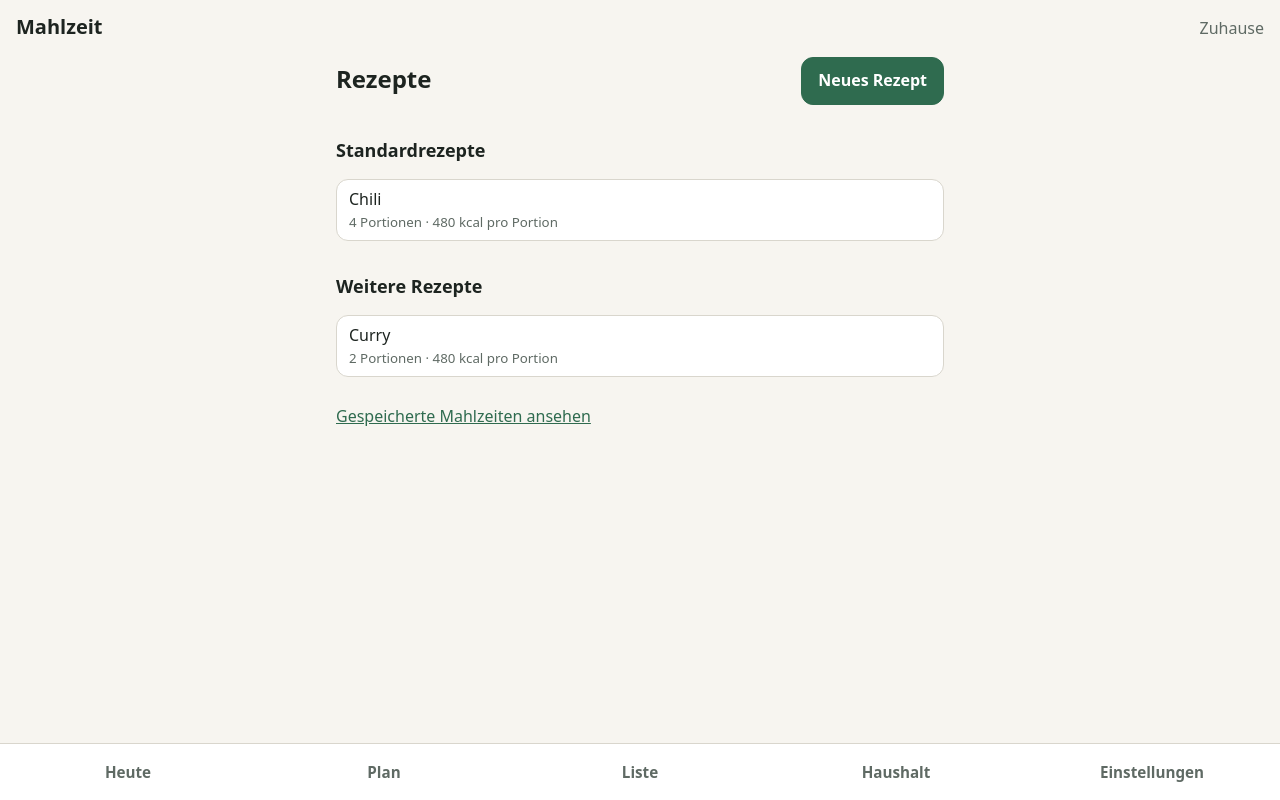
it: recipes › puts the ingredients for some portions on the list
The width and height of the screenshot is (1280, 800).
Step 1. Click the button "Chili 4 Portionen · 480 kcal pro Portion" → (365, 199), box [336,179,944,241]
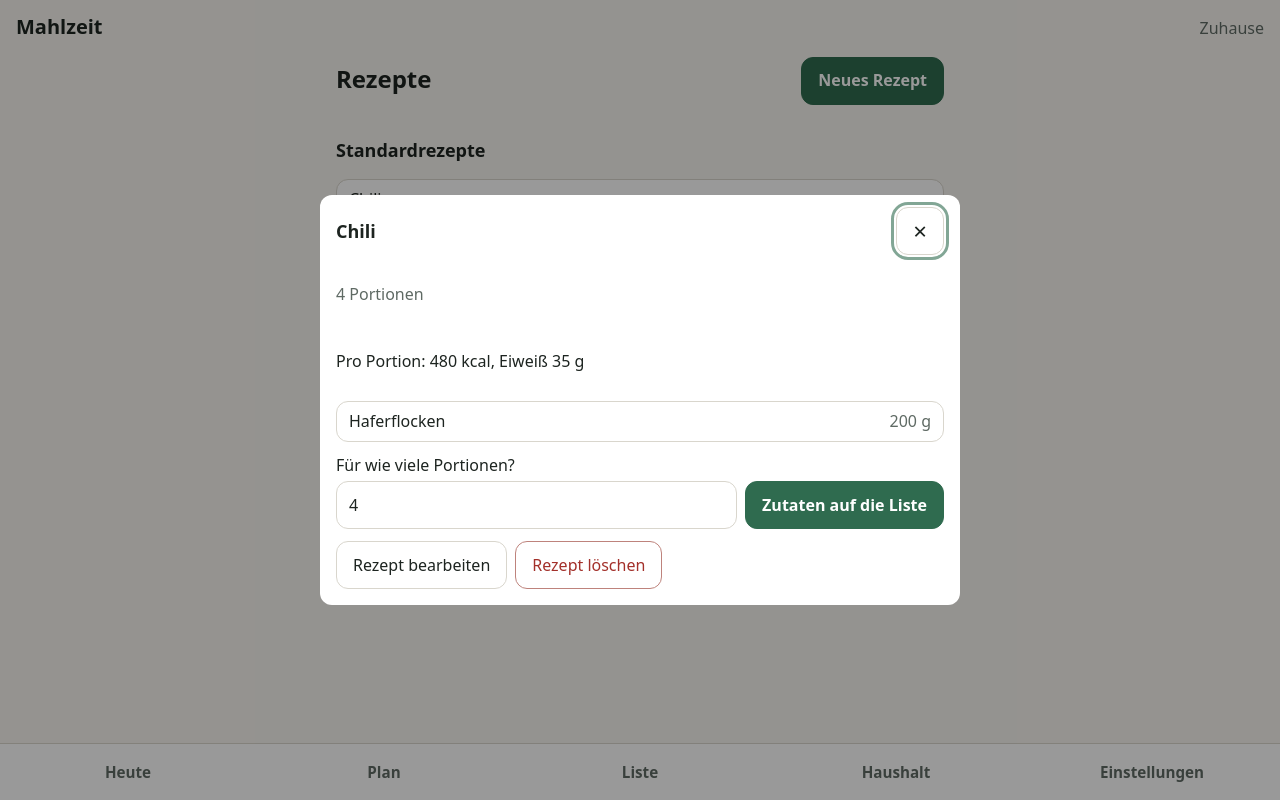
Step 2. Replace the text in the field labelled "Für wie viele Portionen?" with "2" → (537, 505), box [336,481,737,529]
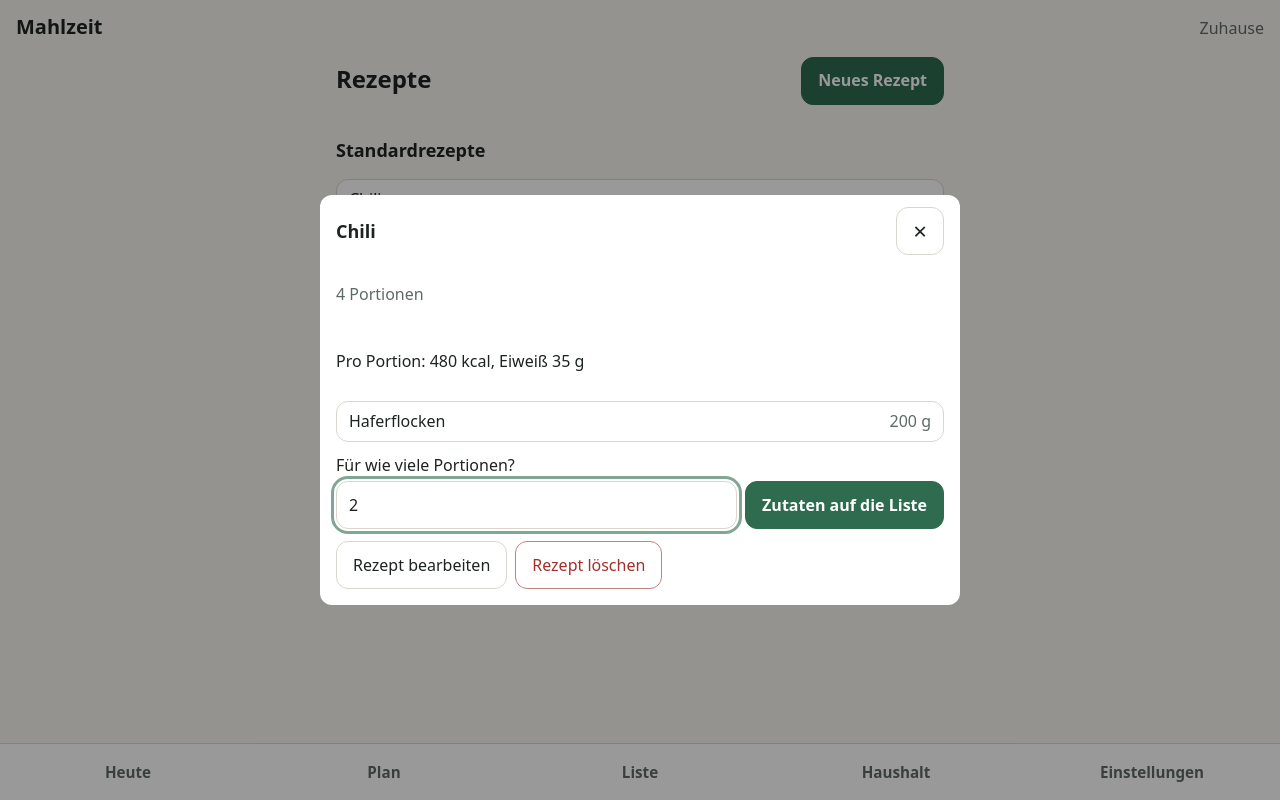
Step 3. Click the button "Zutaten auf die Liste" → (845, 505), box [745,481,944,529]
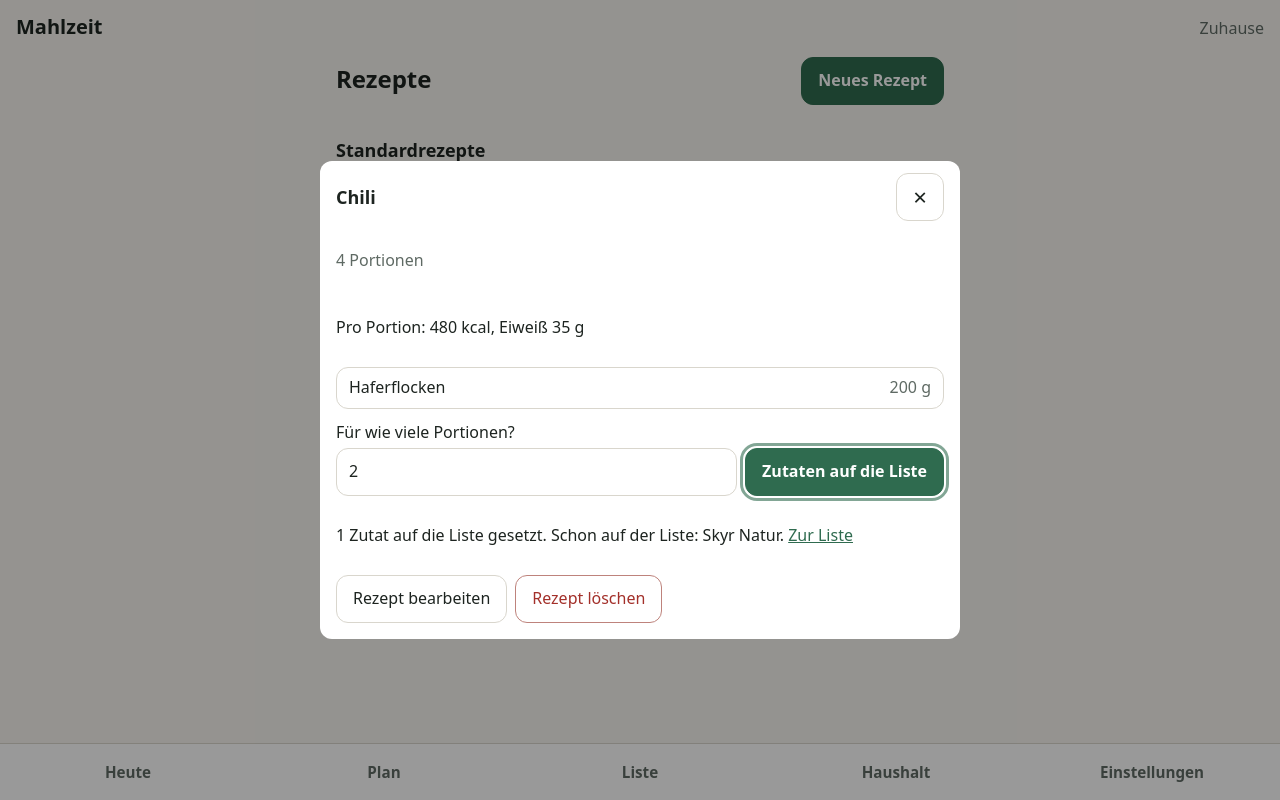
Expected: the message with test id "added" shows "1 Zutat auf die Liste gesetzt. Schon auf der Liste: Skyr Natur.", [336,524,944,547]
